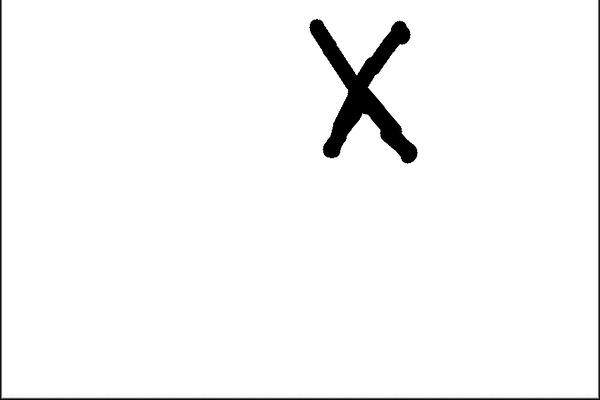X: (294, 13, 455, 199)
